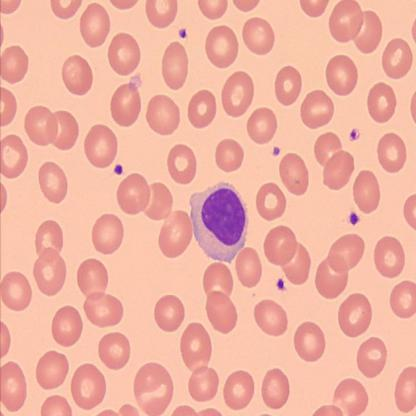Lymphocyte: (189, 181, 249, 263)
